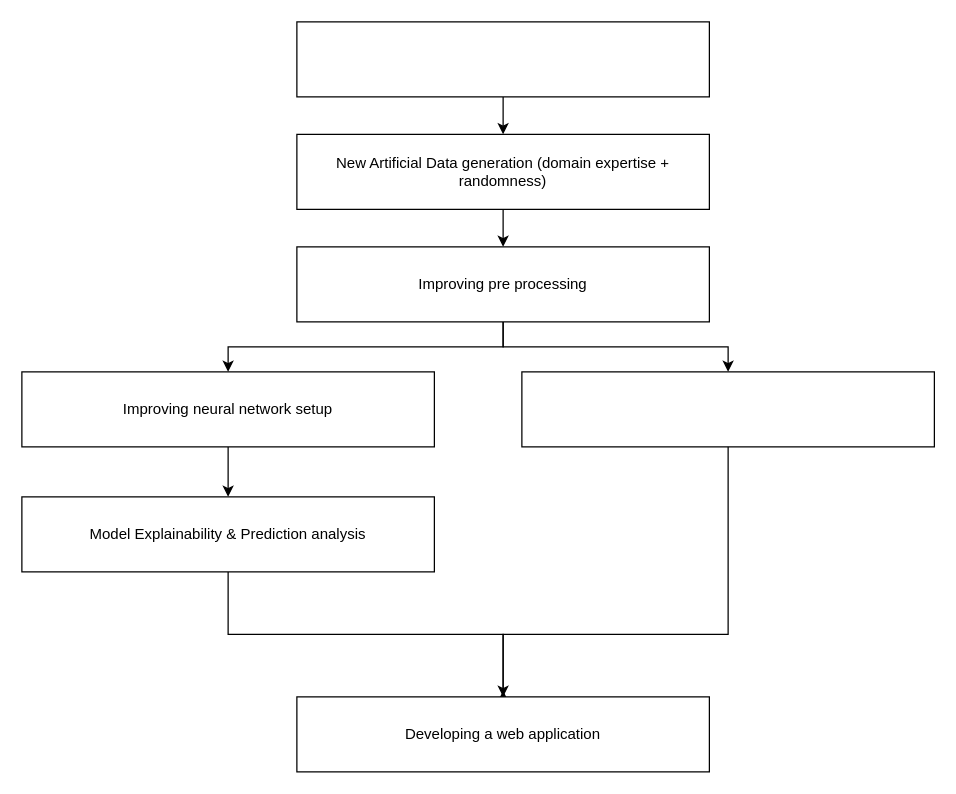
Some shapes in this 956 by 794 pixel diagram are drawn without their labels. Here are the shapes that lost their labels. From the top down, the centre of each, then its label:
the point at 502,59: HazelNet
the point at 727,409: Developing an algorithm
